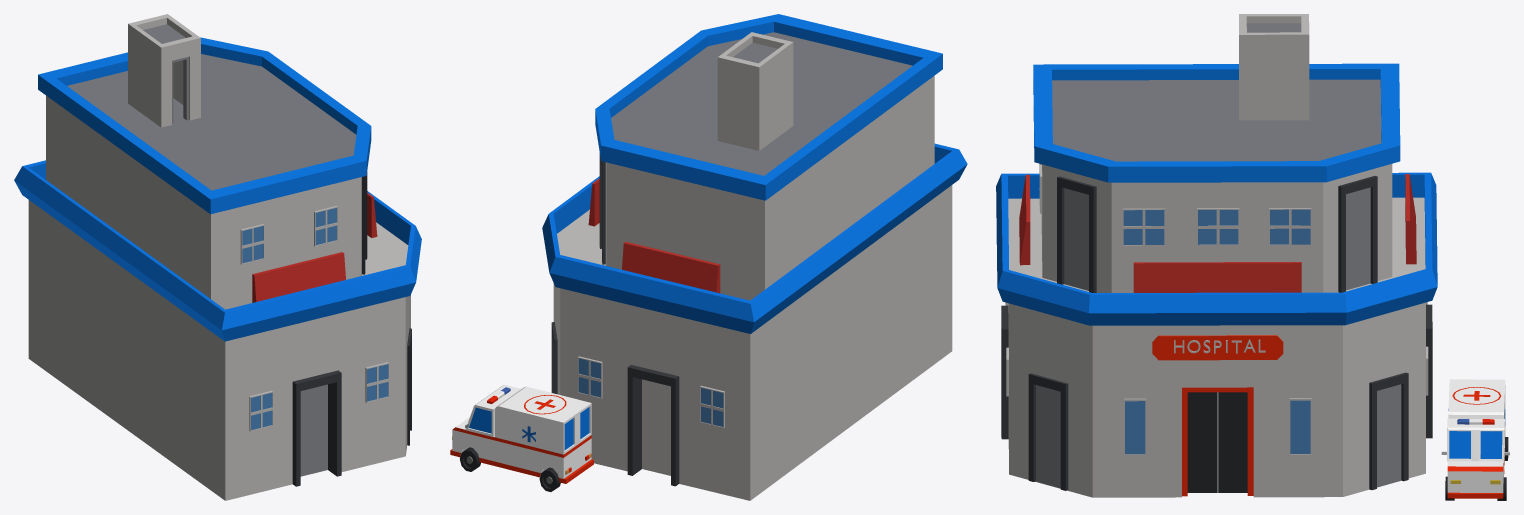
Rendered from hospital.glb.
The picture shows the model from 3 angles, left to right: view 1: azimuth 30°, elevation 25°; view 2: azimuth 150°, elevation 25°; view 3: azimuth 270°, elevation 25°; orthographic projection. The views are drawn at different scales.
Parts seen in each view (by area): view 1: Hospital_1_Color_Palette_0; view 2: Hospital_1_Color_Palette_0, Ambulance_1_Color_Palette_0; view 3: Hospital_1_Color_Palette_0, Ambulance_1_Color_Palette_0.
Part boxes in pixels (box(x1,y1,x2,y2)): Hospital_1_Color_Palette_0: box(14, 14, 421, 500); Hospital_1_Color_Palette_0: box(542, 14, 967, 500); Ambulance_1_Color_Palette_0: box(450, 384, 593, 491); Hospital_1_Color_Palette_0: box(996, 14, 1437, 497); Ambulance_1_Color_Palette_0: box(1441, 379, 1509, 500).
Bounding box in the file's own units: 2.02 × 2.71 × 3.24.
1 material, 1 textured.
